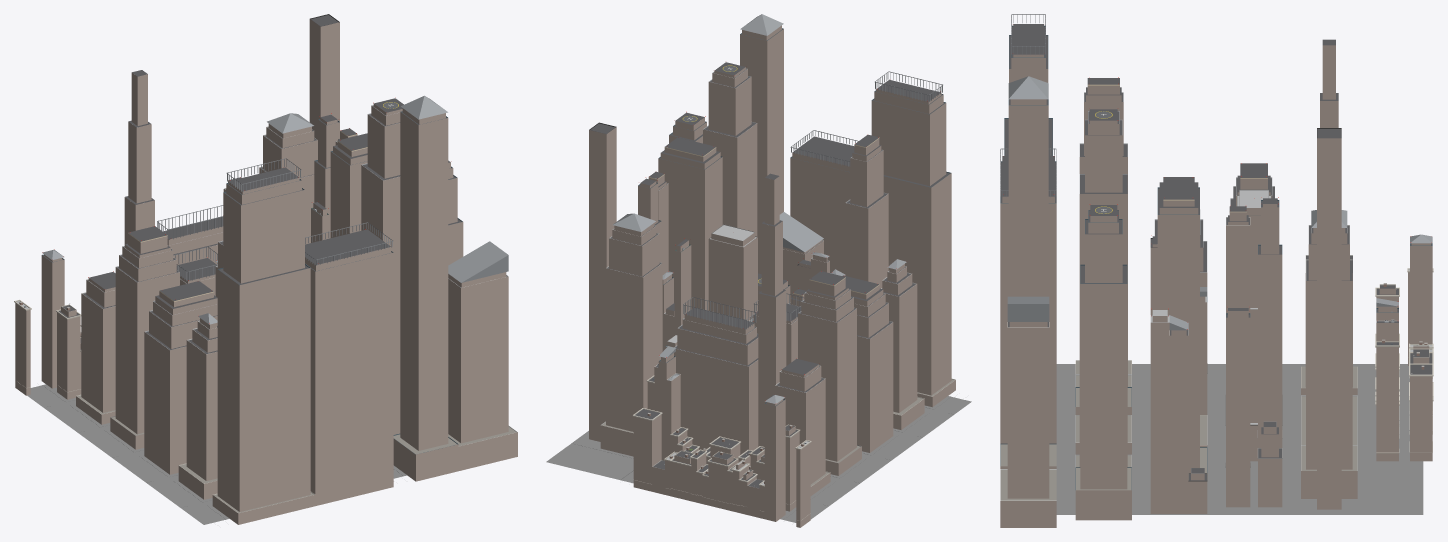
The picture shows the model from 3 angles, left to right: view 1: azimuth 30°, elevation 25°; view 2: azimuth 150°, elevation 25°; view 3: azimuth 270°, elevation 25°; orthographic projection. The views are drawn at different scales.
Parts seen in each view (by area): view 1: t12_facade, t12_roof, t12_ground, t12_detail; view 2: t12_facade, t12_roof, t12_ground, t12_detail; view 3: t12_facade, t12_ground, t12_roof, t12_detail.
Part boxes in pixels (box(x1,y1,x2,y2)): t12_facade: box(15, 19, 517, 524); t12_roof: box(16, 15, 516, 513); t12_ground: box(27, 384, 406, 524); t12_detail: box(14, 14, 517, 512); t12_facade: box(589, 25, 955, 527); t12_roof: box(590, 14, 954, 488); t12_ground: box(546, 396, 971, 522); t12_detail: box(589, 28, 955, 520); t12_facade: box(1000, 45, 1432, 527); t12_ground: box(1056, 364, 1423, 514); t12_roof: box(1000, 14, 1432, 500); t12_detail: box(1000, 25, 1433, 500).
Bounding box in the file's own units: 415 × 480 × 461.
